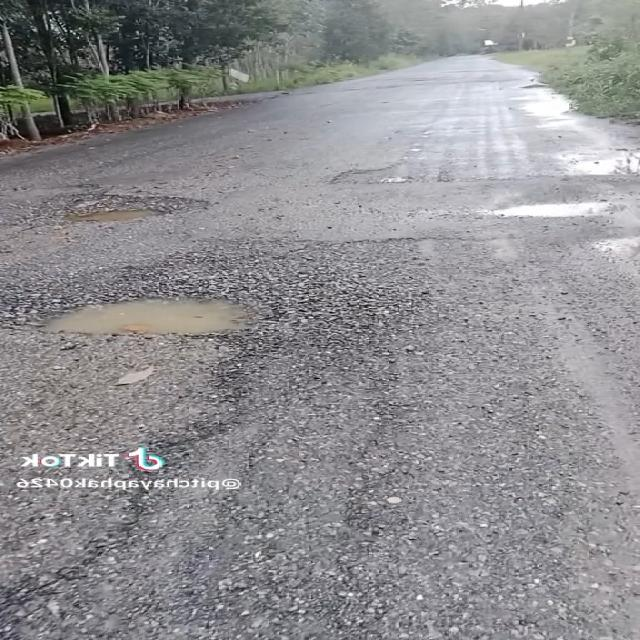Poth-hole: (215, 150, 470, 213)
